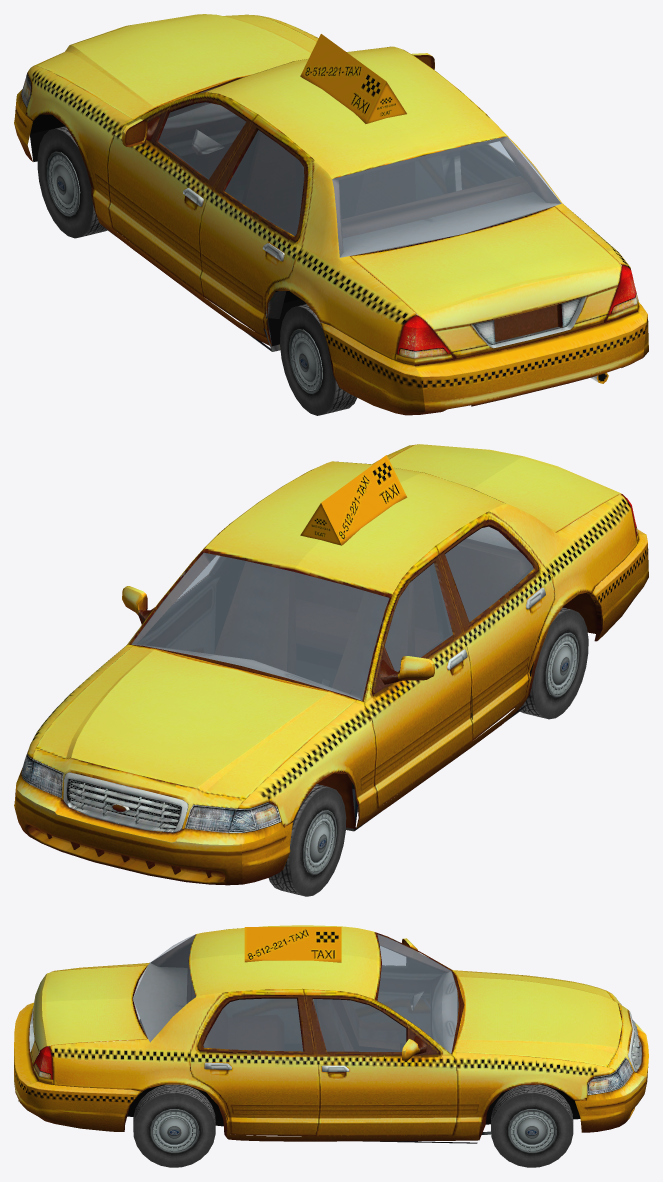
The model's file is ford_crown_victoria_taxi.glb.
3 renders of one model, top to bottom at view 1: azimuth 30°, elevation 25°; view 2: azimuth 150°, elevation 25°; view 3: azimuth 270°, elevation 25°, orthographic. The views are drawn at different scales.
Visible parts, largest first — view 1: Body, Salon, Glass, Capot_R, Bumper_R, Capot_F, Door_F, Door_R, Wheel_RL, Wheel_FL, Checker, Bumper_F; view 2: Body, Glass, Salon, Capot_F, Door_F, Bumper_F, Door_R, Capot_R, Wheel_FL, Wheel_RL, Checker, Bumper_R; view 3: Body, Glass, Salon, Door_F, Capot_F, Door_R, Capot_R, Bumper_R, Wheel_RR, Wheel_FR, Checker, Bumper_F.
Boxes of the visible parts, bbox=[...] form: Body: bbox=[21, 14, 638, 365]; Salon: bbox=[122, 102, 561, 332]; Glass: bbox=[158, 87, 561, 257]; Capot_R: bbox=[350, 206, 621, 359]; Bumper_R: bbox=[320, 302, 648, 415]; Capot_F: bbox=[36, 14, 316, 119]; Door_F: bbox=[107, 53, 434, 296]; Door_R: bbox=[199, 116, 512, 337]; Wheel_RL: bbox=[280, 304, 356, 415]; Wheel_FL: bbox=[37, 126, 107, 238]; Checker: bbox=[300, 34, 406, 123]; Bumper_F: bbox=[14, 89, 32, 161]; Body: bbox=[21, 445, 639, 833]; Glass: bbox=[131, 526, 533, 700]; Salon: bbox=[131, 526, 542, 789]; Capot_F: bbox=[36, 645, 356, 798]; Door_F: bbox=[120, 547, 472, 807]; Bumper_F: bbox=[14, 768, 292, 885]; Door_R: bbox=[437, 513, 554, 740]; Capot_R: bbox=[389, 444, 621, 532]; Wheel_FL: bbox=[268, 784, 346, 896]; Wheel_RL: bbox=[515, 607, 588, 719]; Checker: bbox=[300, 455, 407, 545]; Bumper_R: bbox=[585, 514, 648, 641]; Body: bbox=[33, 925, 641, 1141]; Glass: bbox=[133, 934, 458, 1053]; Salon: bbox=[133, 934, 458, 1119]; Door_F: bbox=[303, 938, 458, 1136]; Capot_F: bbox=[453, 971, 622, 1066]; Door_R: bbox=[190, 990, 320, 1136]; Capot_R: bbox=[29, 965, 147, 1067]; Bumper_R: bbox=[14, 1002, 142, 1131]; Wheel_RR: bbox=[133, 1084, 215, 1167]; Wheel_FR: bbox=[491, 1084, 573, 1167]; Checker: bbox=[244, 927, 341, 962]; Bumper_F: bbox=[575, 1023, 648, 1132].
Size of the model in its own units: 2.24 by 1.81 by 5.35.
Materials: 6 (5 with a texture image).
